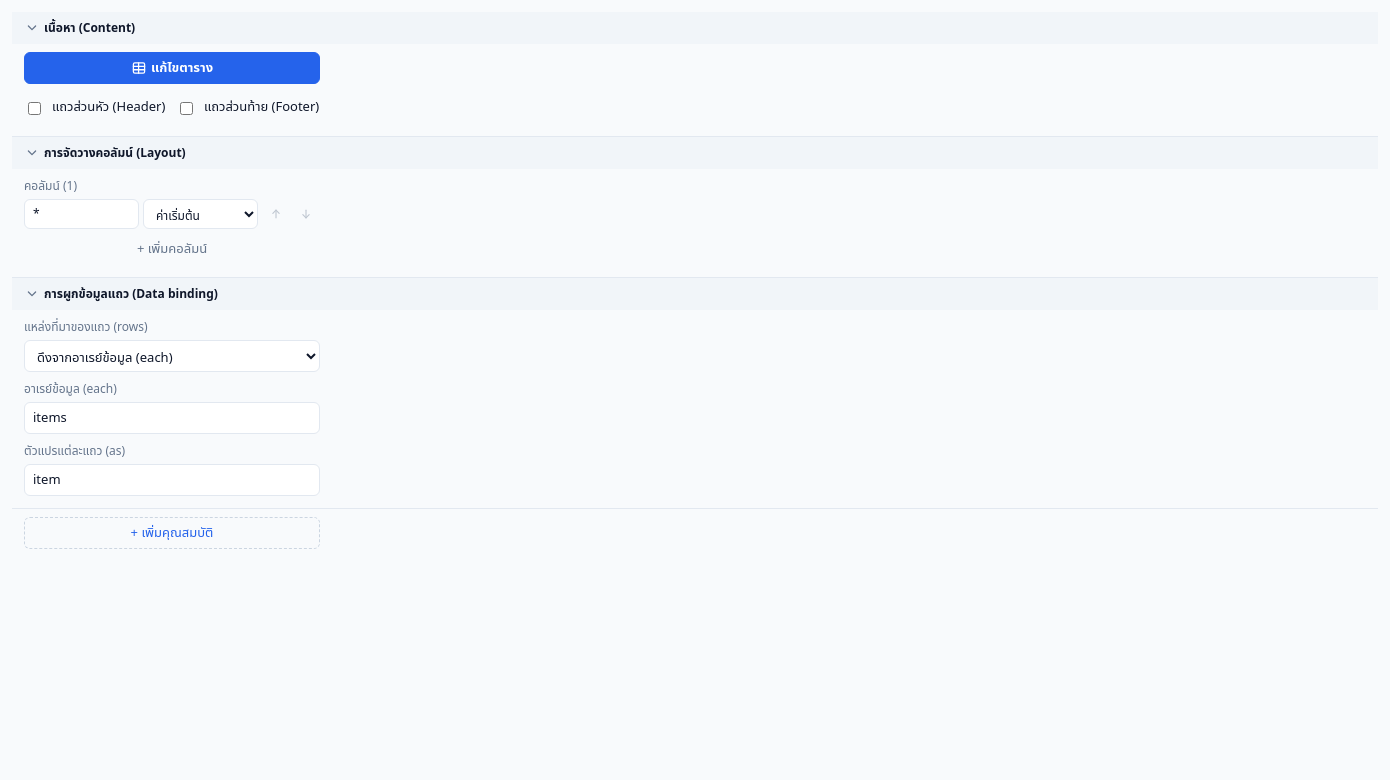
Test: TableProps, TableGridDialog and Dialog › TableProps rejects an invalid loop variable
Replace the text in the field named "Loop variable (as)" with "123-invalid" at x=172, y=480, box left=24, top=464, right=320, bottom=496
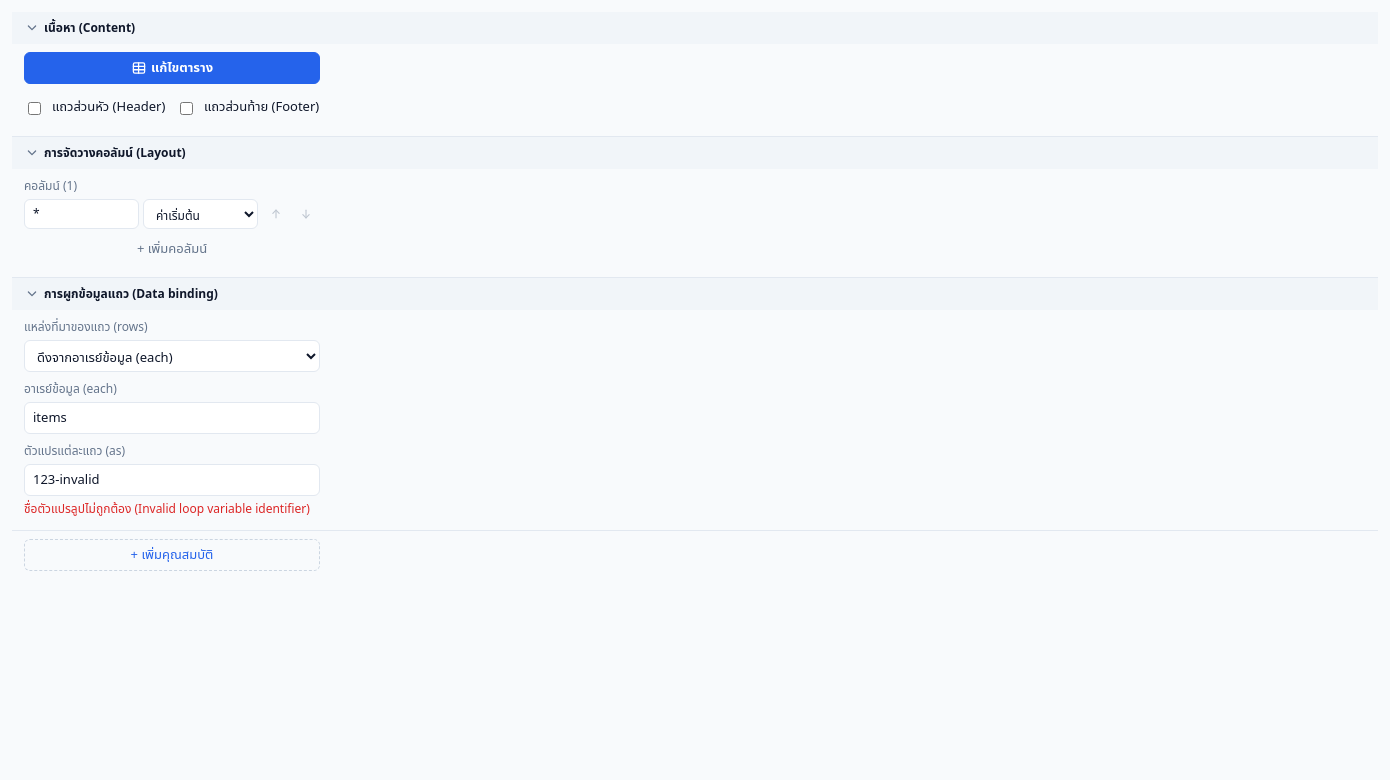
Result: the message "ชื่อตัวแปรลูปไม่ถูกต้อง (Invalid loop variable identifier)" is shown at left=24, top=500, right=320, bottom=518
